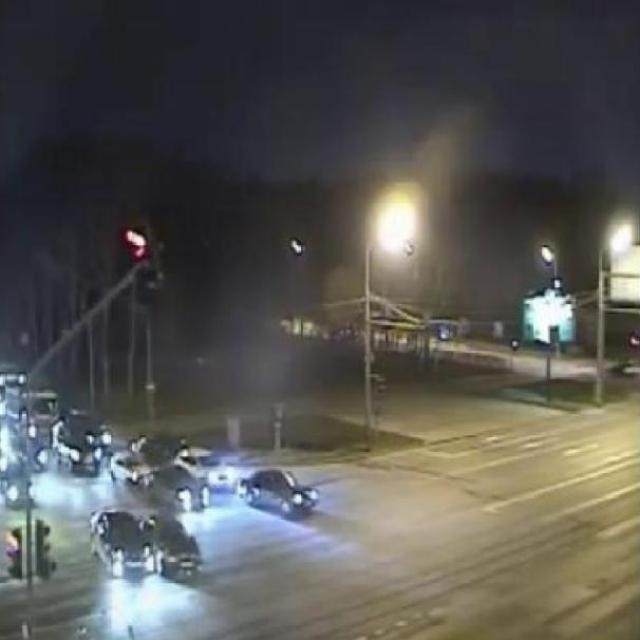accident: (86, 507, 208, 585)
